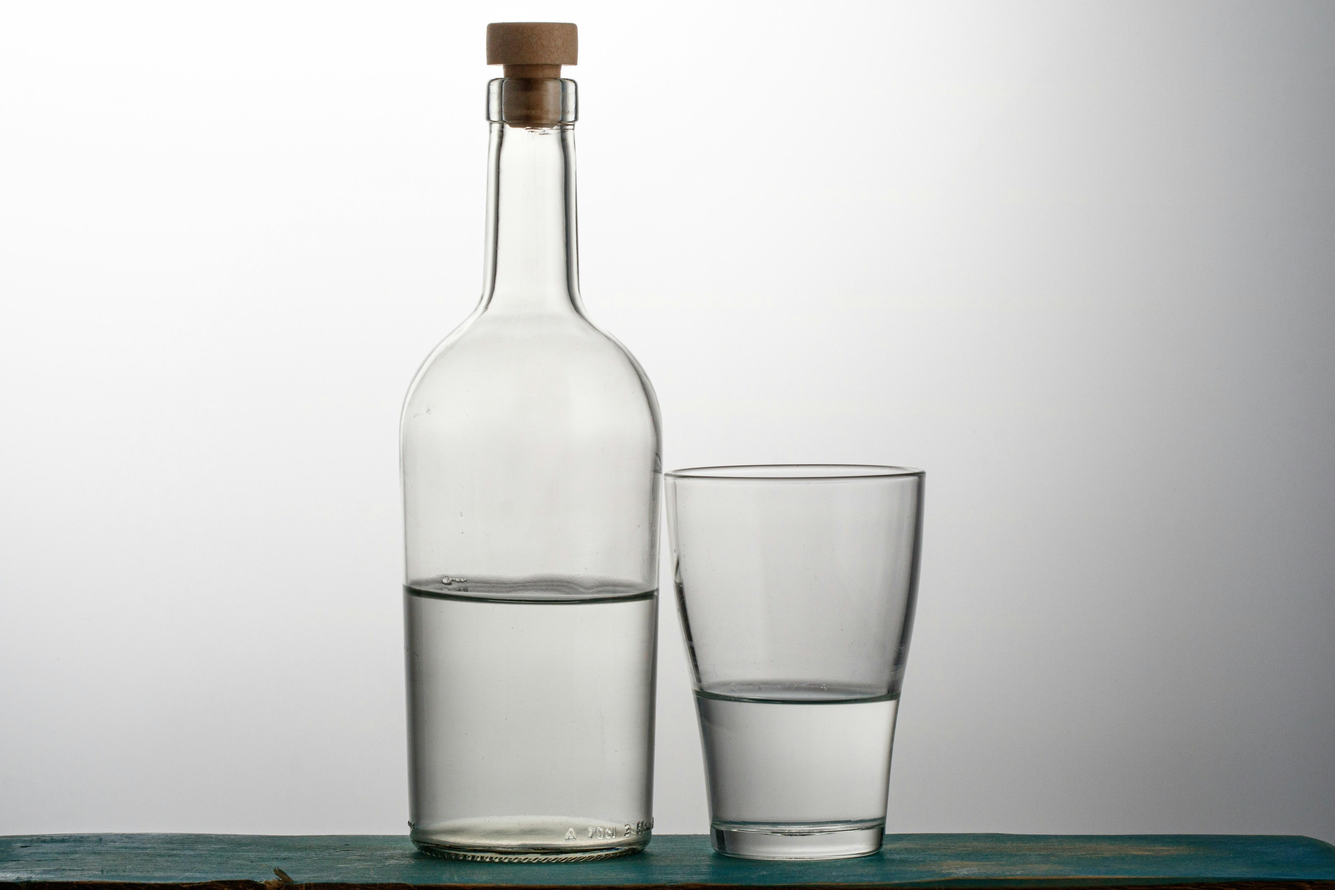Bottle-Detection: (352, 8, 677, 877)
